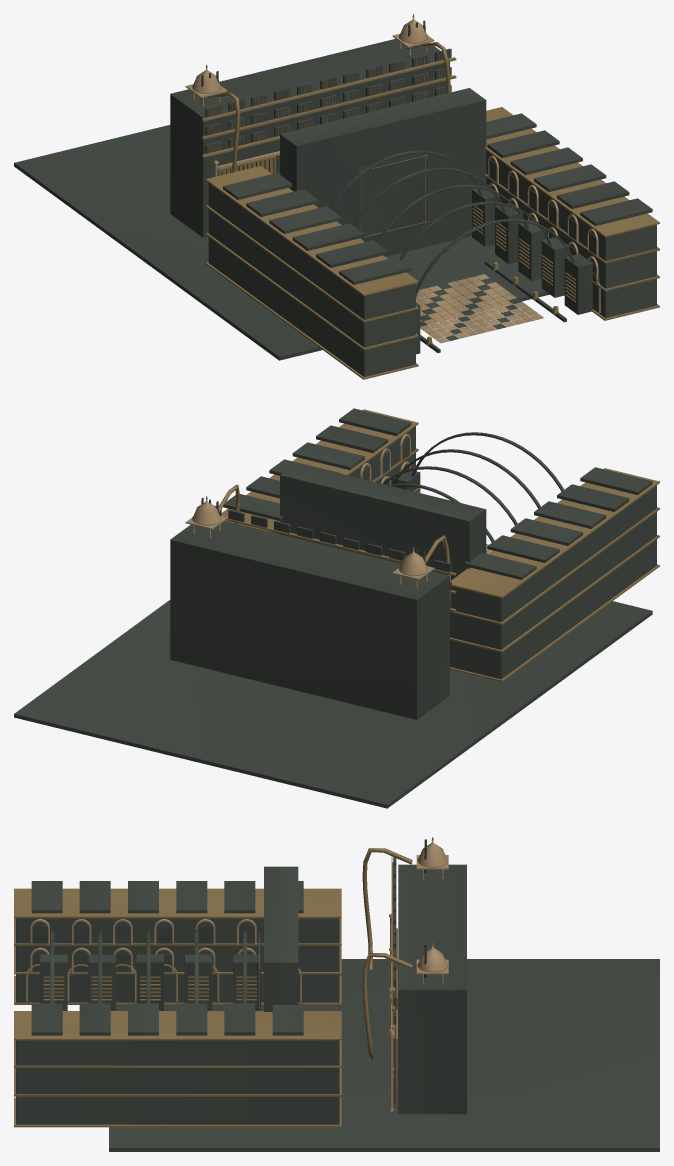
The model's file is arena-90.glb.
The picture shows the model from 3 angles, top to bottom: view 1: azimuth 30°, elevation 25°; view 2: azimuth 150°, elevation 25°; view 3: azimuth 270°, elevation 25°; orthographic projection. The views are drawn at different scales.
Visible parts, largest first — view 1: correction-dark, correction-bronze, correction-sand; view 2: correction-dark, correction-bronze, correction-sand; view 3: correction-dark, correction-bronze, correction-sand.
Boxes of the visible parts, left/top/right/bottom form: correction-dark: left=14, top=20, right=656, bottom=376; correction-bronze: left=192, top=14, right=659, bottom=379; correction-sand: left=185, top=17, right=600, bottom=343; correction-dark: left=14, top=408, right=656, bottom=808; correction-bronze: left=192, top=409, right=659, bottom=681; correction-sand: left=185, top=433, right=491, bottom=587; correction-dark: left=16, top=839, right=659, bottom=1151; correction-bronze: left=14, top=837, right=443, bottom=1127; correction-sand: left=26, top=840, right=448, bottom=1111.
Size of the model in its own units: 65 by 26.86 by 93.8.
